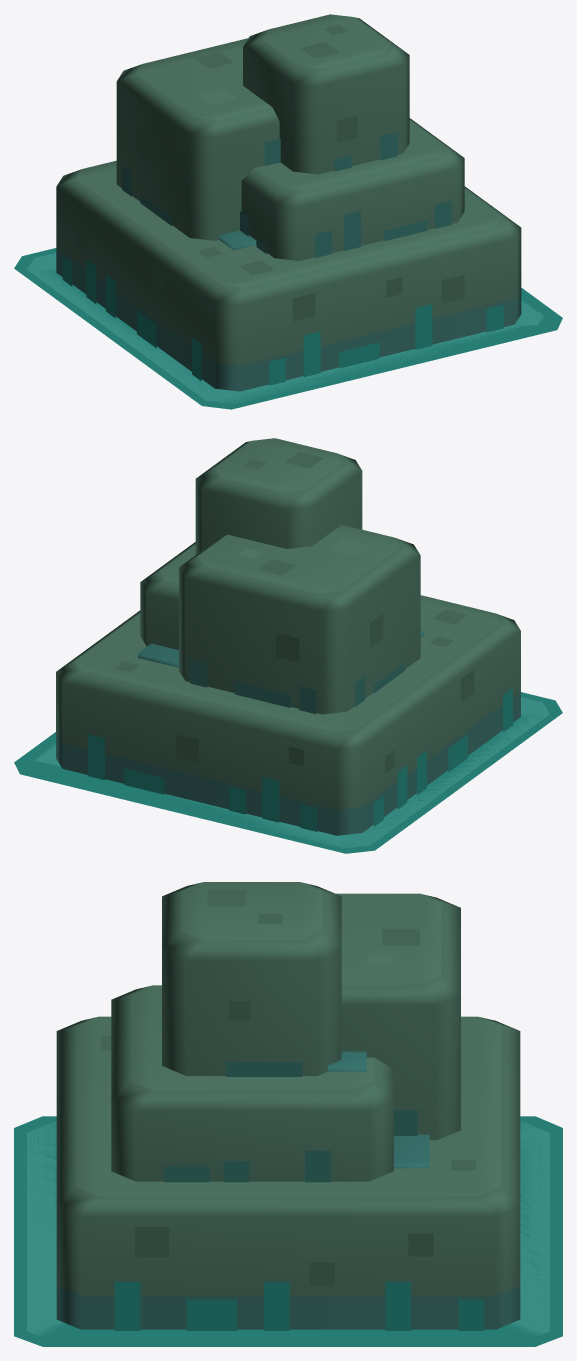
File: B_forest1_rock02.fbx
The picture shows the model from 3 angles, top to bottom: view 1: azimuth 30°, elevation 25°; view 2: azimuth 150°, elevation 25°; view 3: azimuth 270°, elevation 25°; orthographic projection. The views are drawn at different scales.
Parts seen in each view (by area): view 1: model 1, model; view 2: model 1, model; view 3: model 1, model.
Part boxes in pixels (x1,y1,x2,y2): model 1: (14,14,562,409); model: (27,253,544,403); model 1: (14,438,562,853); model: (35,697,549,848); model 1: (14,882,562,1346); model: (27,1121,549,1336).
Size of the model in its own units: 4.45 by 3.06 by 4.47.
